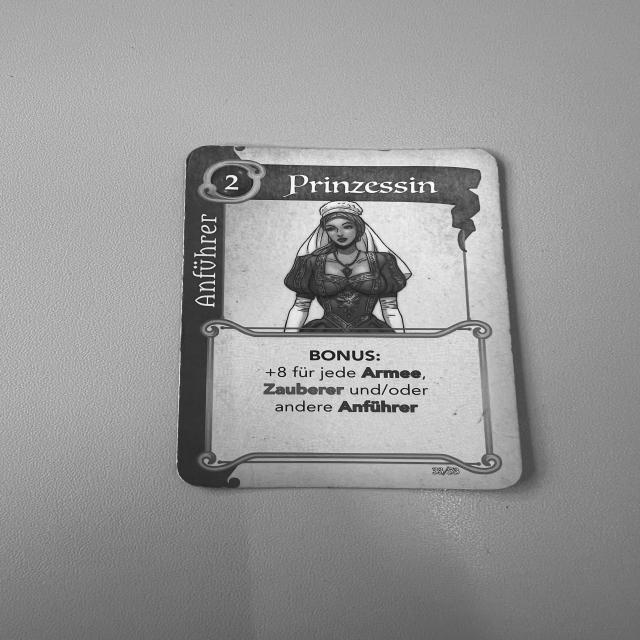Princess: (179, 146, 533, 495)
